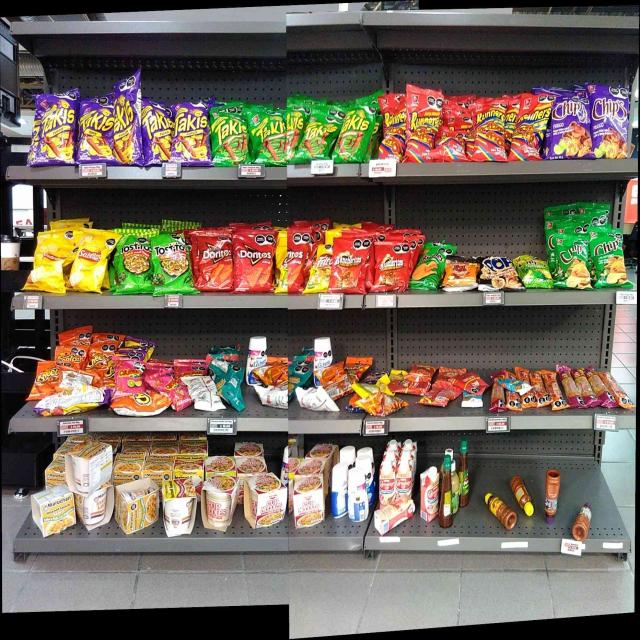bitzAlmendras: (462, 390, 484, 410), (506, 379, 530, 391)
bitzEnchilado90: (388, 382, 428, 396), (438, 366, 462, 383)
bitzEnchilado95: (532, 368, 557, 408), (606, 372, 624, 404)
bitzHabanero: (564, 367, 603, 408), (491, 371, 503, 413)
botaneraChilito: (484, 494, 509, 521), (514, 482, 533, 516)
cheetosOriginal: (116, 392, 166, 411), (36, 366, 61, 394), (86, 353, 108, 374), (58, 350, 80, 367)
chipsFuego: (591, 88, 629, 156), (554, 99, 588, 158)
chipsJalapeno: (594, 234, 622, 286), (559, 236, 587, 285)
chipsPapatinas: (520, 255, 545, 287)
churrumais: (165, 375, 188, 406), (116, 366, 146, 389)
doritosNacho: (239, 241, 270, 293), (199, 242, 234, 288), (287, 245, 303, 292)
fritosLimon: (315, 252, 330, 292)
hotNutsOriginal: (446, 262, 475, 289)
leoMix: (342, 361, 366, 383)
maruchanPollo: (65, 442, 111, 480), (35, 494, 80, 532), (118, 490, 158, 530)
maruchanRes: (165, 479, 192, 535)
nestleCarnation: (373, 502, 414, 532), (420, 468, 438, 521), (380, 462, 394, 502), (396, 462, 411, 495)
nestleLechera: (312, 336, 334, 388), (347, 468, 369, 520), (247, 334, 268, 385), (331, 463, 346, 517)
nissinRes: (246, 474, 284, 523), (291, 478, 327, 528)
popKarameladas: (479, 256, 511, 288)
productoAtras: (40, 394, 107, 414), (191, 376, 217, 408)
rancheritos: (333, 246, 362, 286), (376, 252, 404, 286)
rufflesQueso: (415, 250, 445, 285)
runners: (410, 90, 435, 157), (382, 95, 407, 160), (475, 102, 503, 156), (517, 104, 546, 156), (441, 126, 466, 159), (504, 105, 515, 144)
sabritasOriginal: (74, 240, 105, 288), (34, 250, 67, 285)
salsaBufalo: (439, 454, 455, 529), (458, 437, 469, 508)
semillasGirasol: (218, 360, 240, 408), (289, 357, 310, 388)
tajinDulce: (544, 468, 562, 526), (577, 502, 596, 526)
takisFuego: (39, 100, 76, 160), (176, 104, 206, 161), (113, 93, 138, 161), (142, 105, 172, 160), (82, 105, 111, 159)
takisOriginal: (215, 110, 248, 162), (254, 113, 285, 160), (338, 114, 367, 160), (307, 119, 331, 158), (288, 112, 300, 157)
tostitos: (120, 240, 151, 292), (155, 241, 189, 283)
